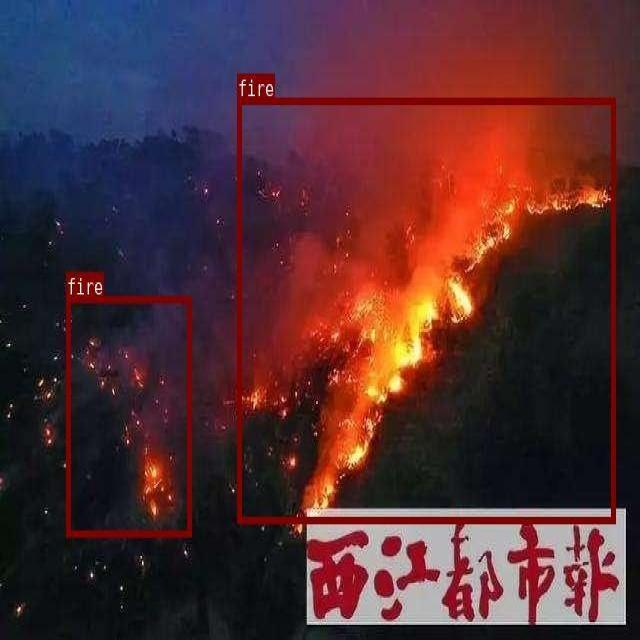fire: (237, 97, 614, 522), (65, 295, 191, 535)
